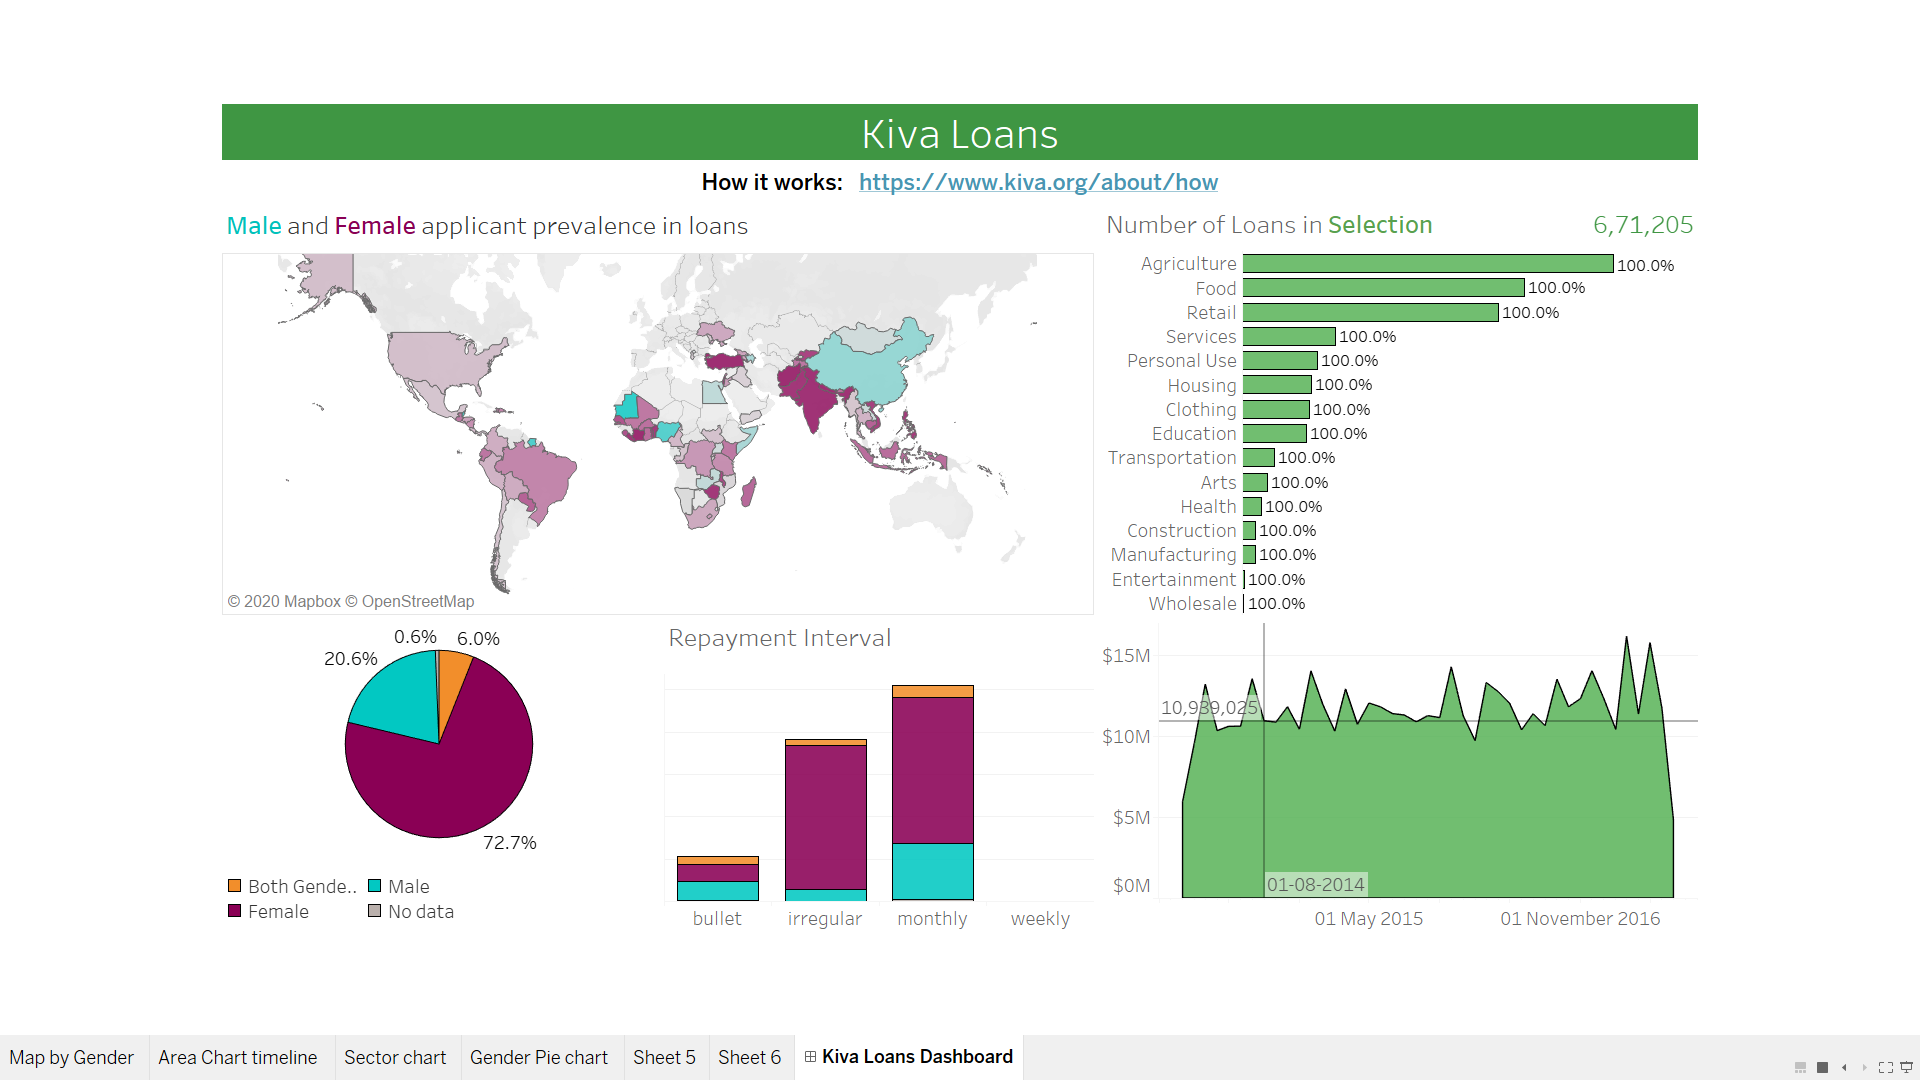

This screenshot's page, from the dashboard's own definition file:
{"tool":"tableau","page":{"name":"Kiva Loans Dashboard","canvas":[1500,850],"ordinal":0},"visuals":[{"type":"title","box":[8,8,1484,64]},{"type":"text","box":[8,72,1484,36]},{"type":"worksheet","title":"Map by Gender","mark":"Multipolygon","box":[8,108,880,419.1]},{"type":"text","box":[888,108,436.5,47.4]},{"type":"worksheet","title":"Sheet 6","mark":"Automatic","box":[1324.5,108,167.5,47.4]},{"type":"worksheet","title":"Sector chart","mark":"Automatic","rows":["sector"],"box":[888,155.4,604,371.7]},{"type":"worksheet","title":"Gender Pie chart","mark":"Pie","box":[8,527.1,442.2,250.4]},{"type":"text","box":[450.2,527.1,437.8,35.6]},{"type":"worksheet","title":"Area Chart timeline","mark":"Area","rows":["loan_amount"],"cols":["funded_time"],"box":[888,527.1,604,314.9]},{"type":"worksheet","title":"Sheet 5","mark":"Automatic","rows":["Calculation_1411034098952876032"],"cols":["repayment_interval"],"box":[450.2,562.6,437.8,279.4]},{"type":"legend","title":"Gender Pie chart","param":"[federated.1waz9sw18kg6kc143the70u7a2ig].[none:Calculation_1411034098952876032:n","box":[8,777.5,442.2,64.5]}]}

Visuals, with their boxes on the page's 1500x850 design canvas (x1, y1, x2, y2). These are canvas units, not pixel positions in the 1920x1080 screenshot, which may show the page scaled, cropped or inside an application window:
title: (8, 8, 1492, 72)
text: (8, 72, 1492, 108)
"Map by Gender" worksheet (Multipolygon marks): (8, 108, 888, 527)
text: (888, 108, 1324, 155)
"Sheet 6" worksheet: (1324, 108, 1492, 155)
"Sector chart" worksheet: (888, 155, 1492, 527)
"Gender Pie chart" worksheet (Pie marks): (8, 527, 450, 778)
text: (450, 527, 888, 563)
"Area Chart timeline" worksheet (Area marks): (888, 527, 1492, 842)
"Sheet 5" worksheet: (450, 563, 888, 842)
"Gender Pie chart" legend: (8, 778, 450, 842)
